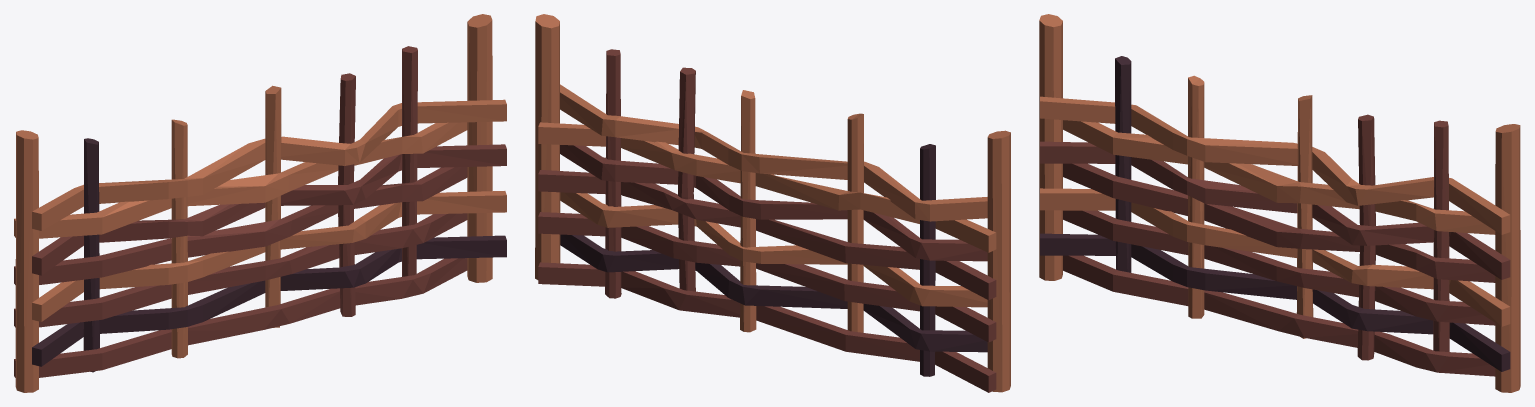
Rendered from Fence_Wooden_06.fbx.
The picture shows the model from 3 angles, left to right: view 1: azimuth 30°, elevation 25°; view 2: azimuth 150°, elevation 25°; view 3: azimuth 330°, elevation 25°; orthographic projection.
Visible parts, largest first — view 1: Fence_Wooden_06; view 2: Fence_Wooden_06; view 3: Fence_Wooden_06.
Boxes of the visible parts, x1,y1,x2,y2 form: Fence_Wooden_06: (14,14,506,392); Fence_Wooden_06: (535,14,1010,392); Fence_Wooden_06: (1039,14,1520,392).
Size of the model in its own units: 212 by 110 by 22.82.
